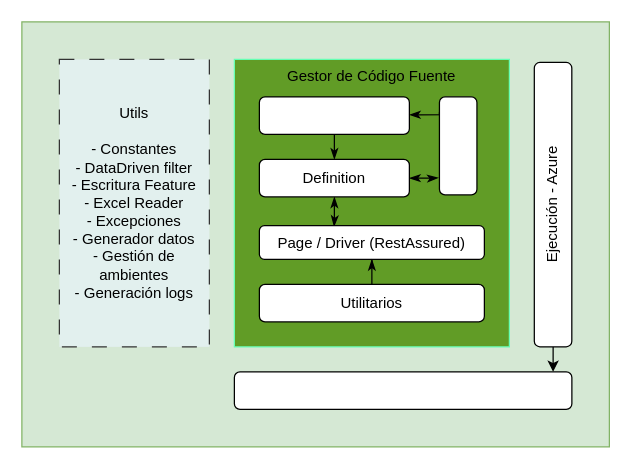
Image size: 631x469. Some labels were removed from this diagram. The centre of each missing label's shape, as x and y in pixels:
Data Driven: (x=457, y=145)
Negocio / Feature (Cucumber): (x=333, y=115)
Resultados (Serenity) - Work Item: (x=402, y=390)
